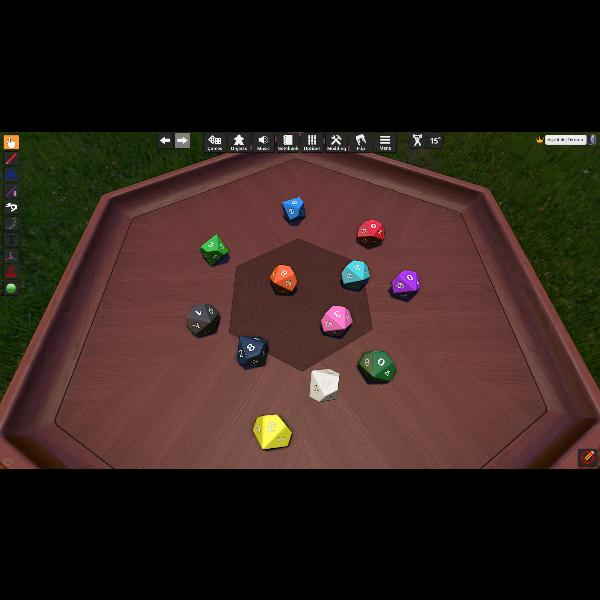d10: (252, 412, 292, 450), (358, 350, 394, 382), (187, 302, 219, 335), (236, 335, 268, 366), (320, 304, 350, 336), (310, 369, 338, 402), (200, 234, 228, 266), (270, 264, 298, 294), (392, 269, 420, 299), (358, 218, 384, 248), (342, 260, 368, 288), (282, 197, 305, 221)
